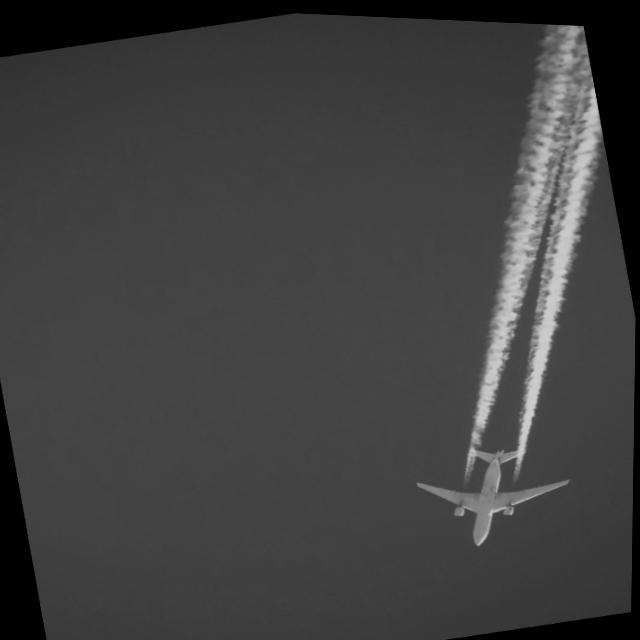aeroplane: (401, 419, 585, 562)
